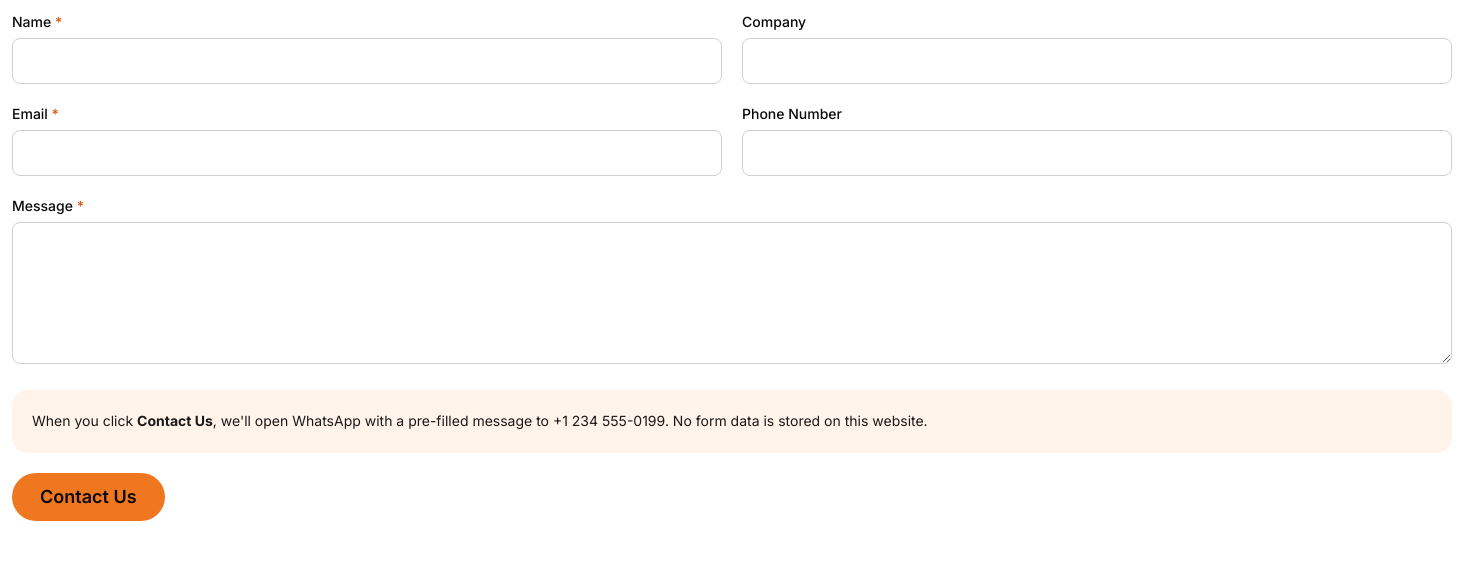
Test case: ContactForm › shows validation error for short message
Step 1. Type "Daniel" into the field labelled "Name *" → (367, 61), box [12, 38, 722, 84]
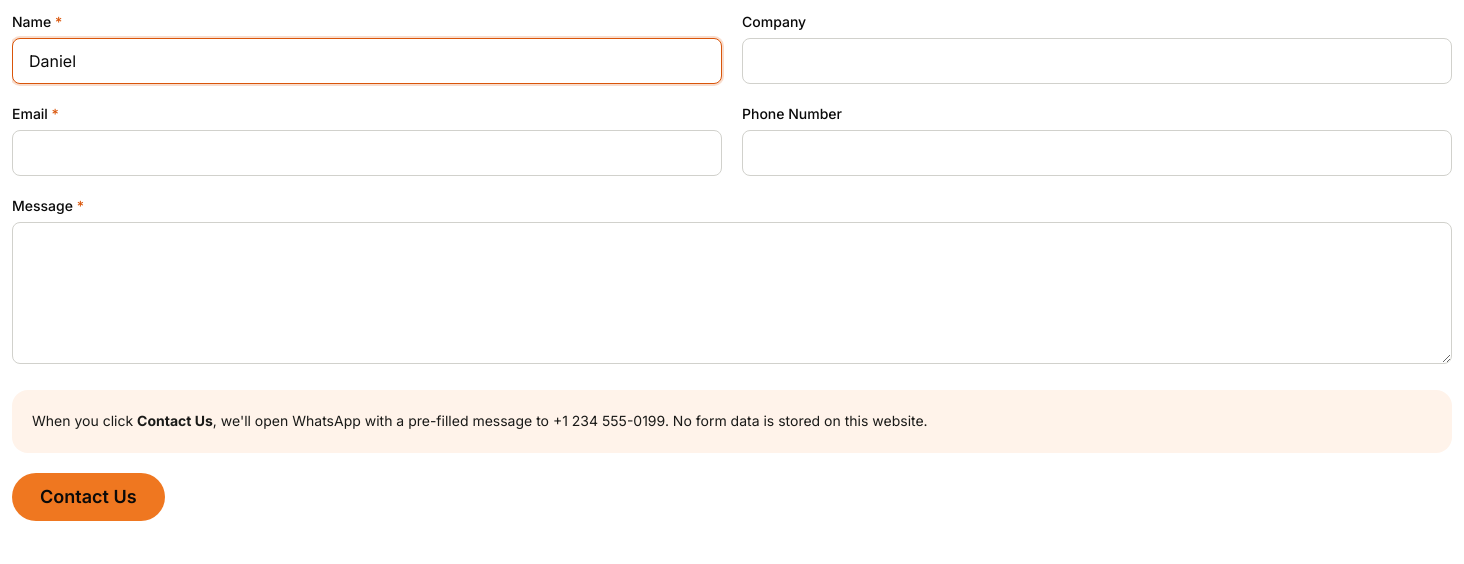
Step 2. Type "daniel@test.com" into the field labelled "Email *" → (367, 153), box [12, 130, 722, 176]
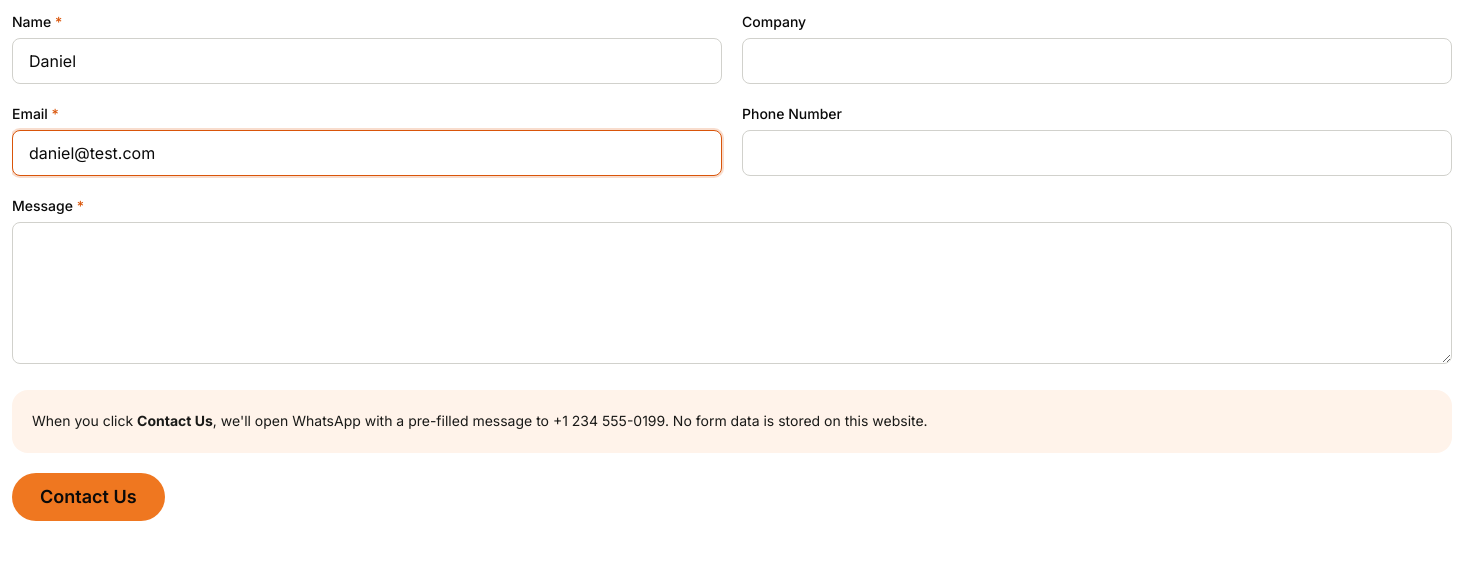
Step 3. Type "Short" into the text box labelled "Message *" → (732, 293), box [12, 222, 1452, 364]
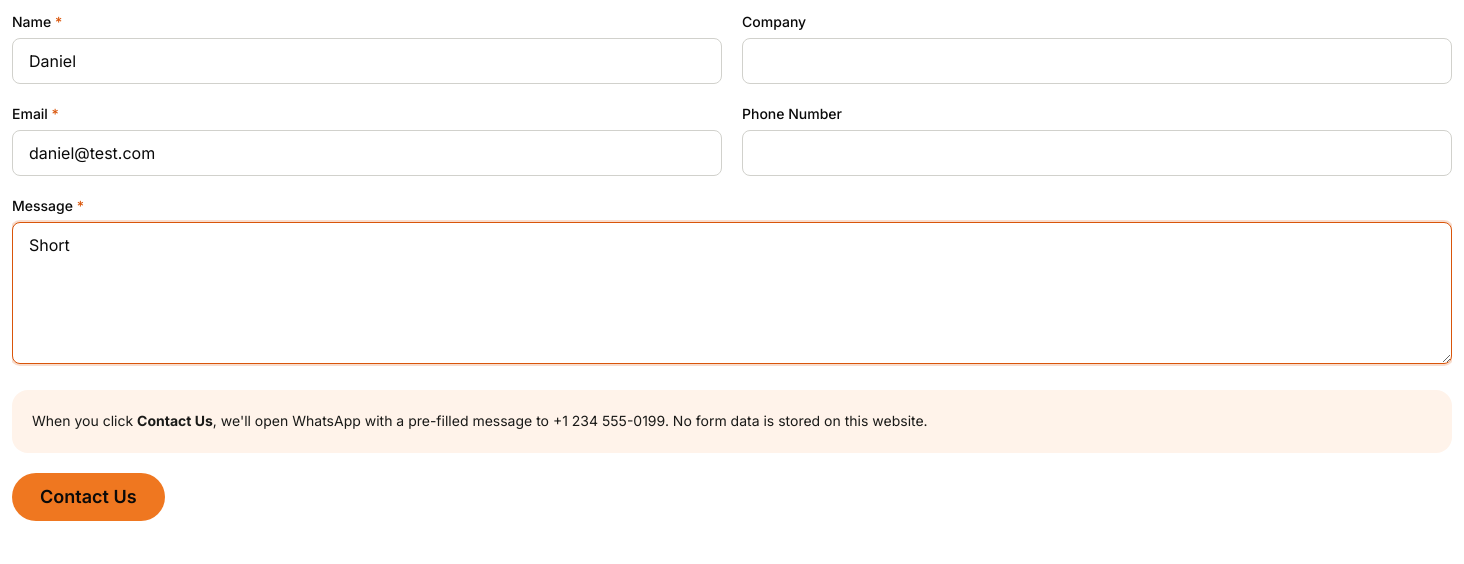
Step 4. Click the button "Contact Us" → (88, 497), box [12, 473, 164, 521]
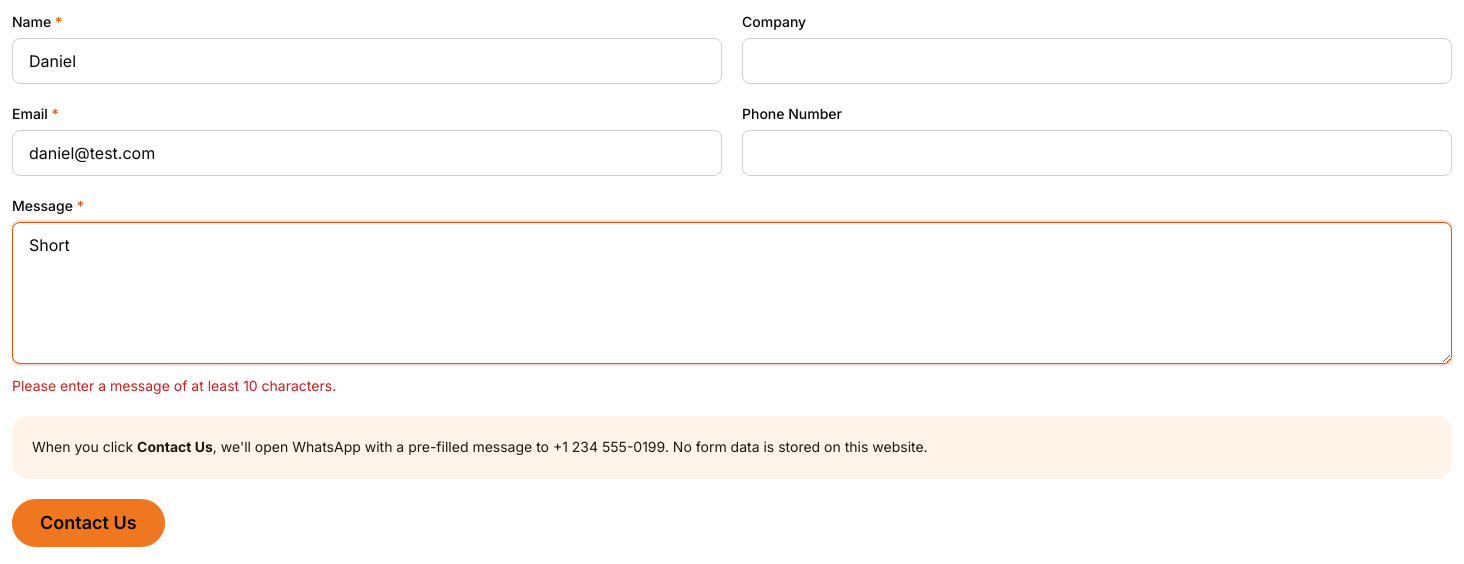
Result: the text "Please enter a message of at least 10 characters." is shown at [12, 377, 336, 394]
